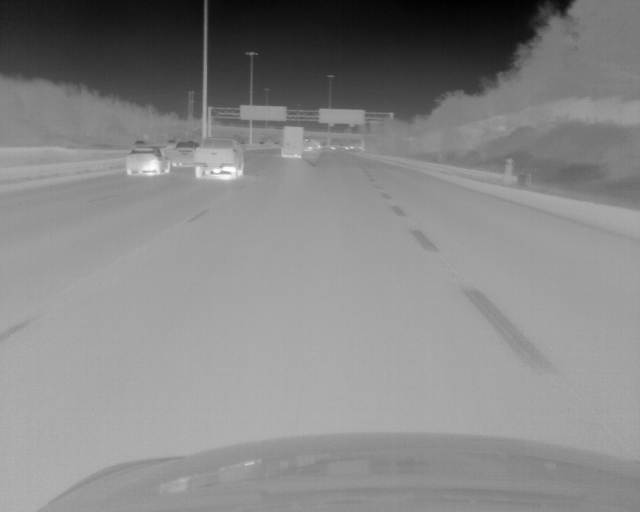car: (194, 138, 244, 178), (124, 147, 172, 176), (171, 140, 198, 167), (281, 125, 303, 157)
